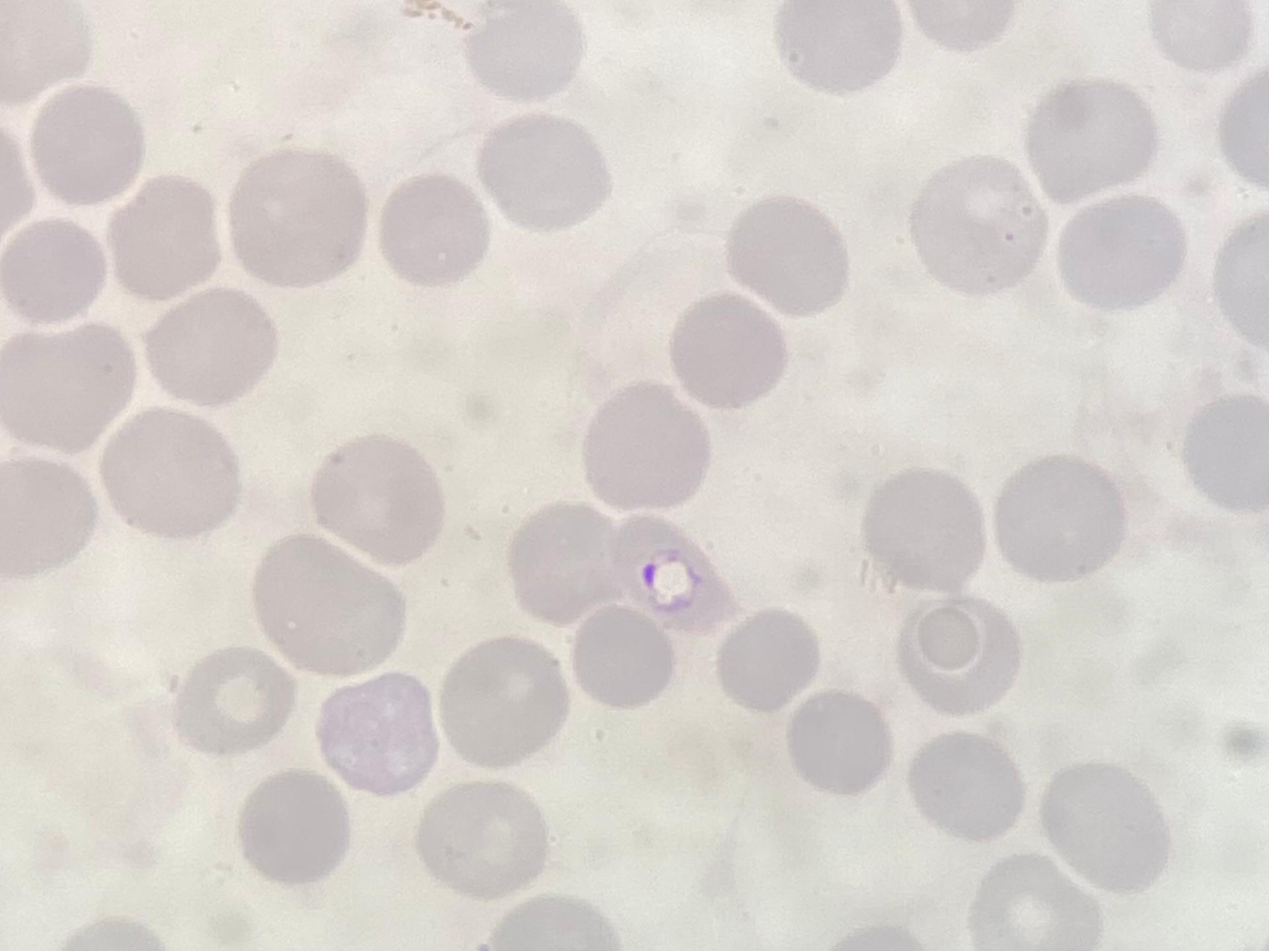Infected: (605, 511, 738, 635)
Uninfected: (252, 531, 407, 677), (99, 406, 245, 543), (227, 149, 371, 286), (906, 159, 1048, 294), (307, 434, 446, 567), (1, 320, 134, 453), (437, 638, 569, 766), (142, 285, 279, 408), (995, 455, 1125, 583), (723, 197, 858, 320), (861, 467, 989, 596), (1040, 761, 1169, 889), (584, 384, 712, 509), (415, 780, 548, 899), (480, 115, 615, 232), (1026, 79, 1155, 201), (1056, 192, 1186, 312), (896, 599, 1024, 718), (108, 175, 227, 301), (316, 674, 439, 794), (28, 82, 146, 206), (505, 501, 619, 627), (665, 300, 789, 411), (171, 646, 295, 757), (235, 769, 350, 886), (906, 732, 1026, 844), (378, 173, 495, 287), (1, 212, 112, 323), (462, 1, 583, 100), (777, 0, 902, 95), (972, 854, 1098, 948), (786, 689, 895, 796), (0, 457, 97, 577), (570, 603, 676, 709), (713, 608, 818, 712), (1179, 392, 1269, 510), (1, 0, 92, 100), (1147, 0, 1247, 71)
